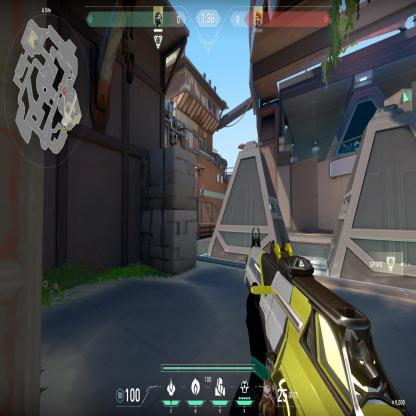enemy: (200, 183, 205, 199)
